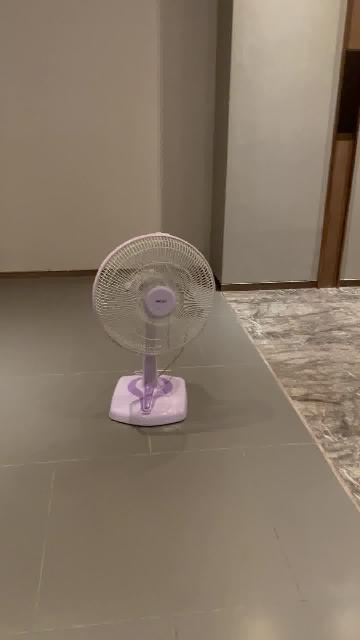Fan: (92, 233, 216, 428)
